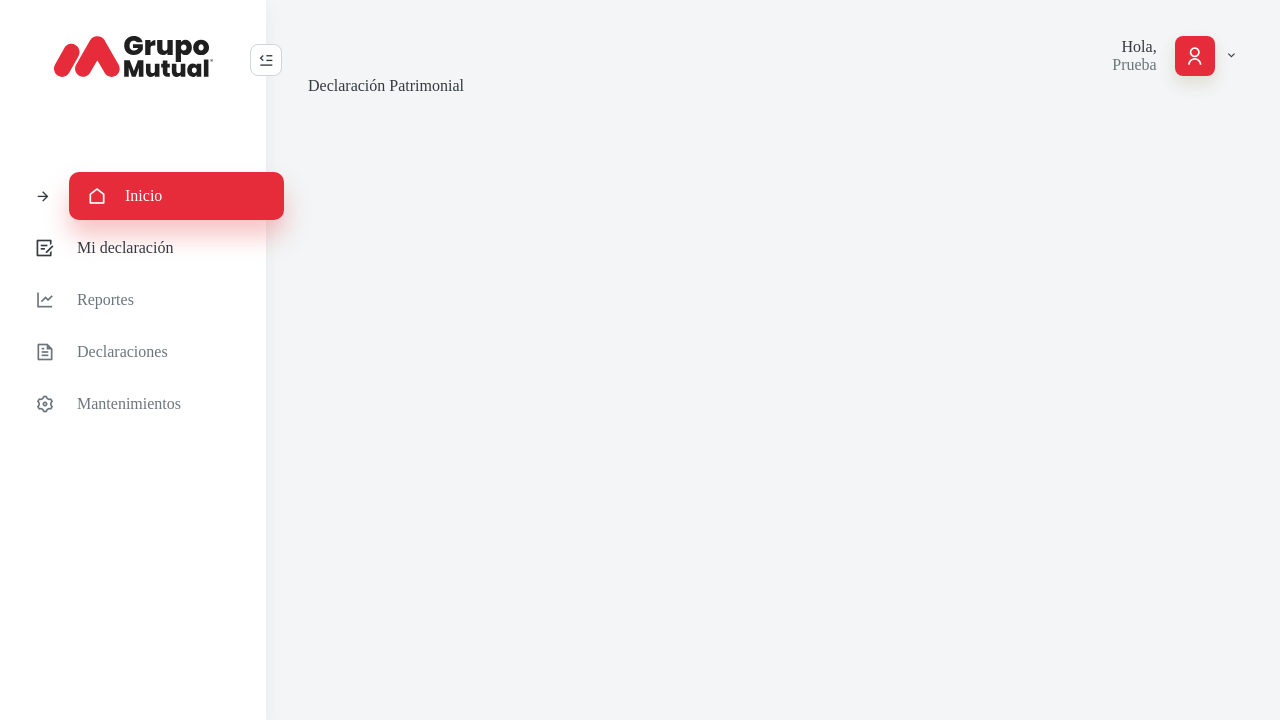
Test: toggles the sidebar between expanded and collapsed, keeping the link name accessible
Expected: the link "Inicio" is shown, [69,172,284,220]
Click the button named "Colapsar menú" at {"x": 266, "y": 60}, box [250,44,282,76]
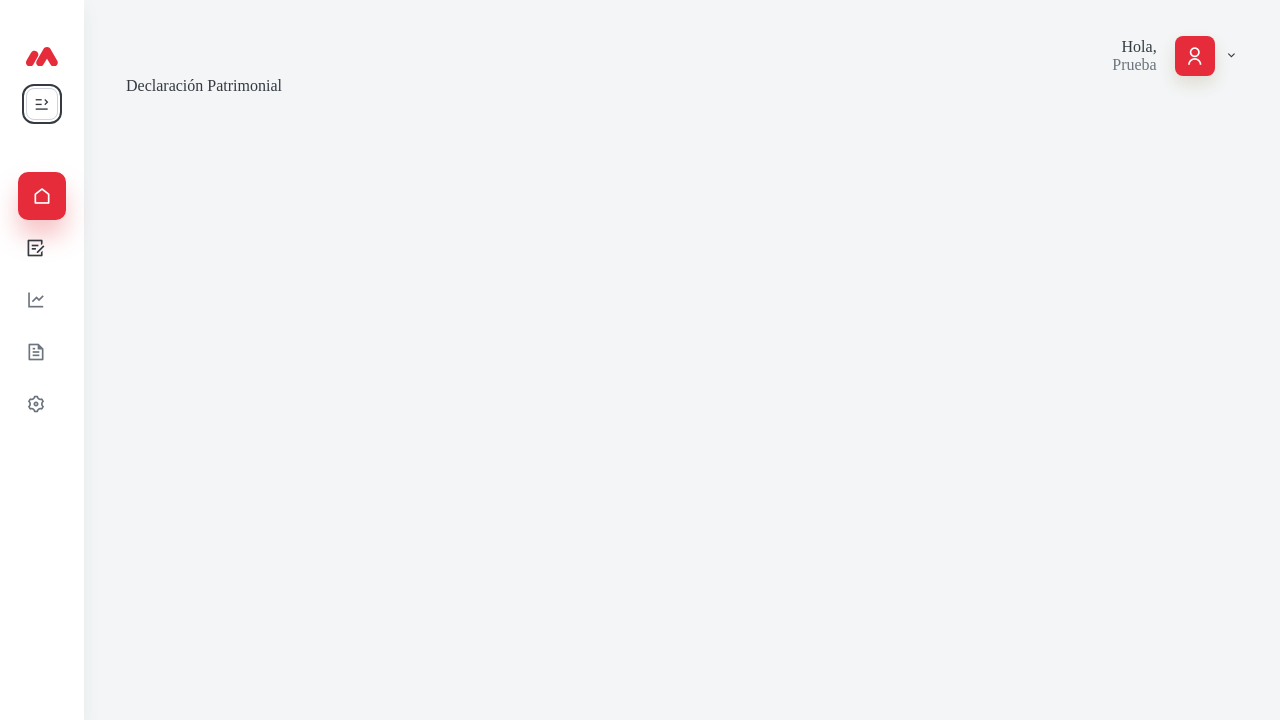
Expected: the 1st link named "Inicio" is shown, [18,172,66,220]
Expected: the button named "Expandir menú" is collapsed
Click the button named "Expandir menú" at {"x": 42, "y": 104}, box [26,88,58,120]
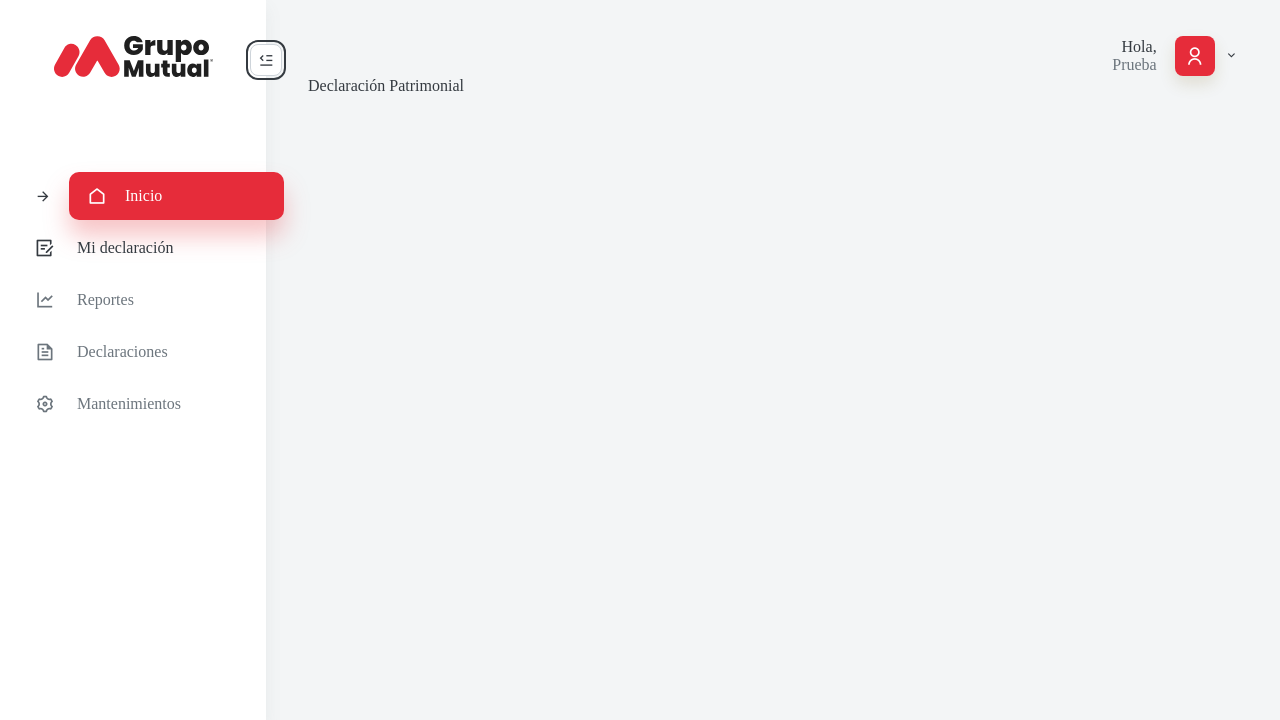
Expected: the button named "Colapsar menú" is expanded, [250,44,282,76]
